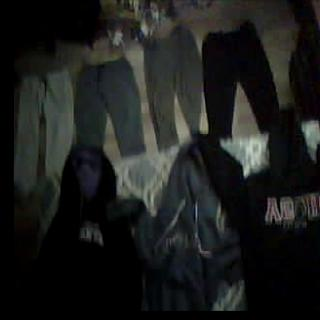Blue Hoodie: (143, 150, 215, 316)
Blue Sweatpants: (77, 56, 142, 157)
Gray Sweatpants: (148, 23, 202, 149)
HOSA hoodie: (235, 120, 320, 311)
Navy Sweatpants: (204, 20, 278, 138)
Waterloo Hoodie: (32, 148, 138, 320)
White Sweatpants: (12, 66, 72, 187)
